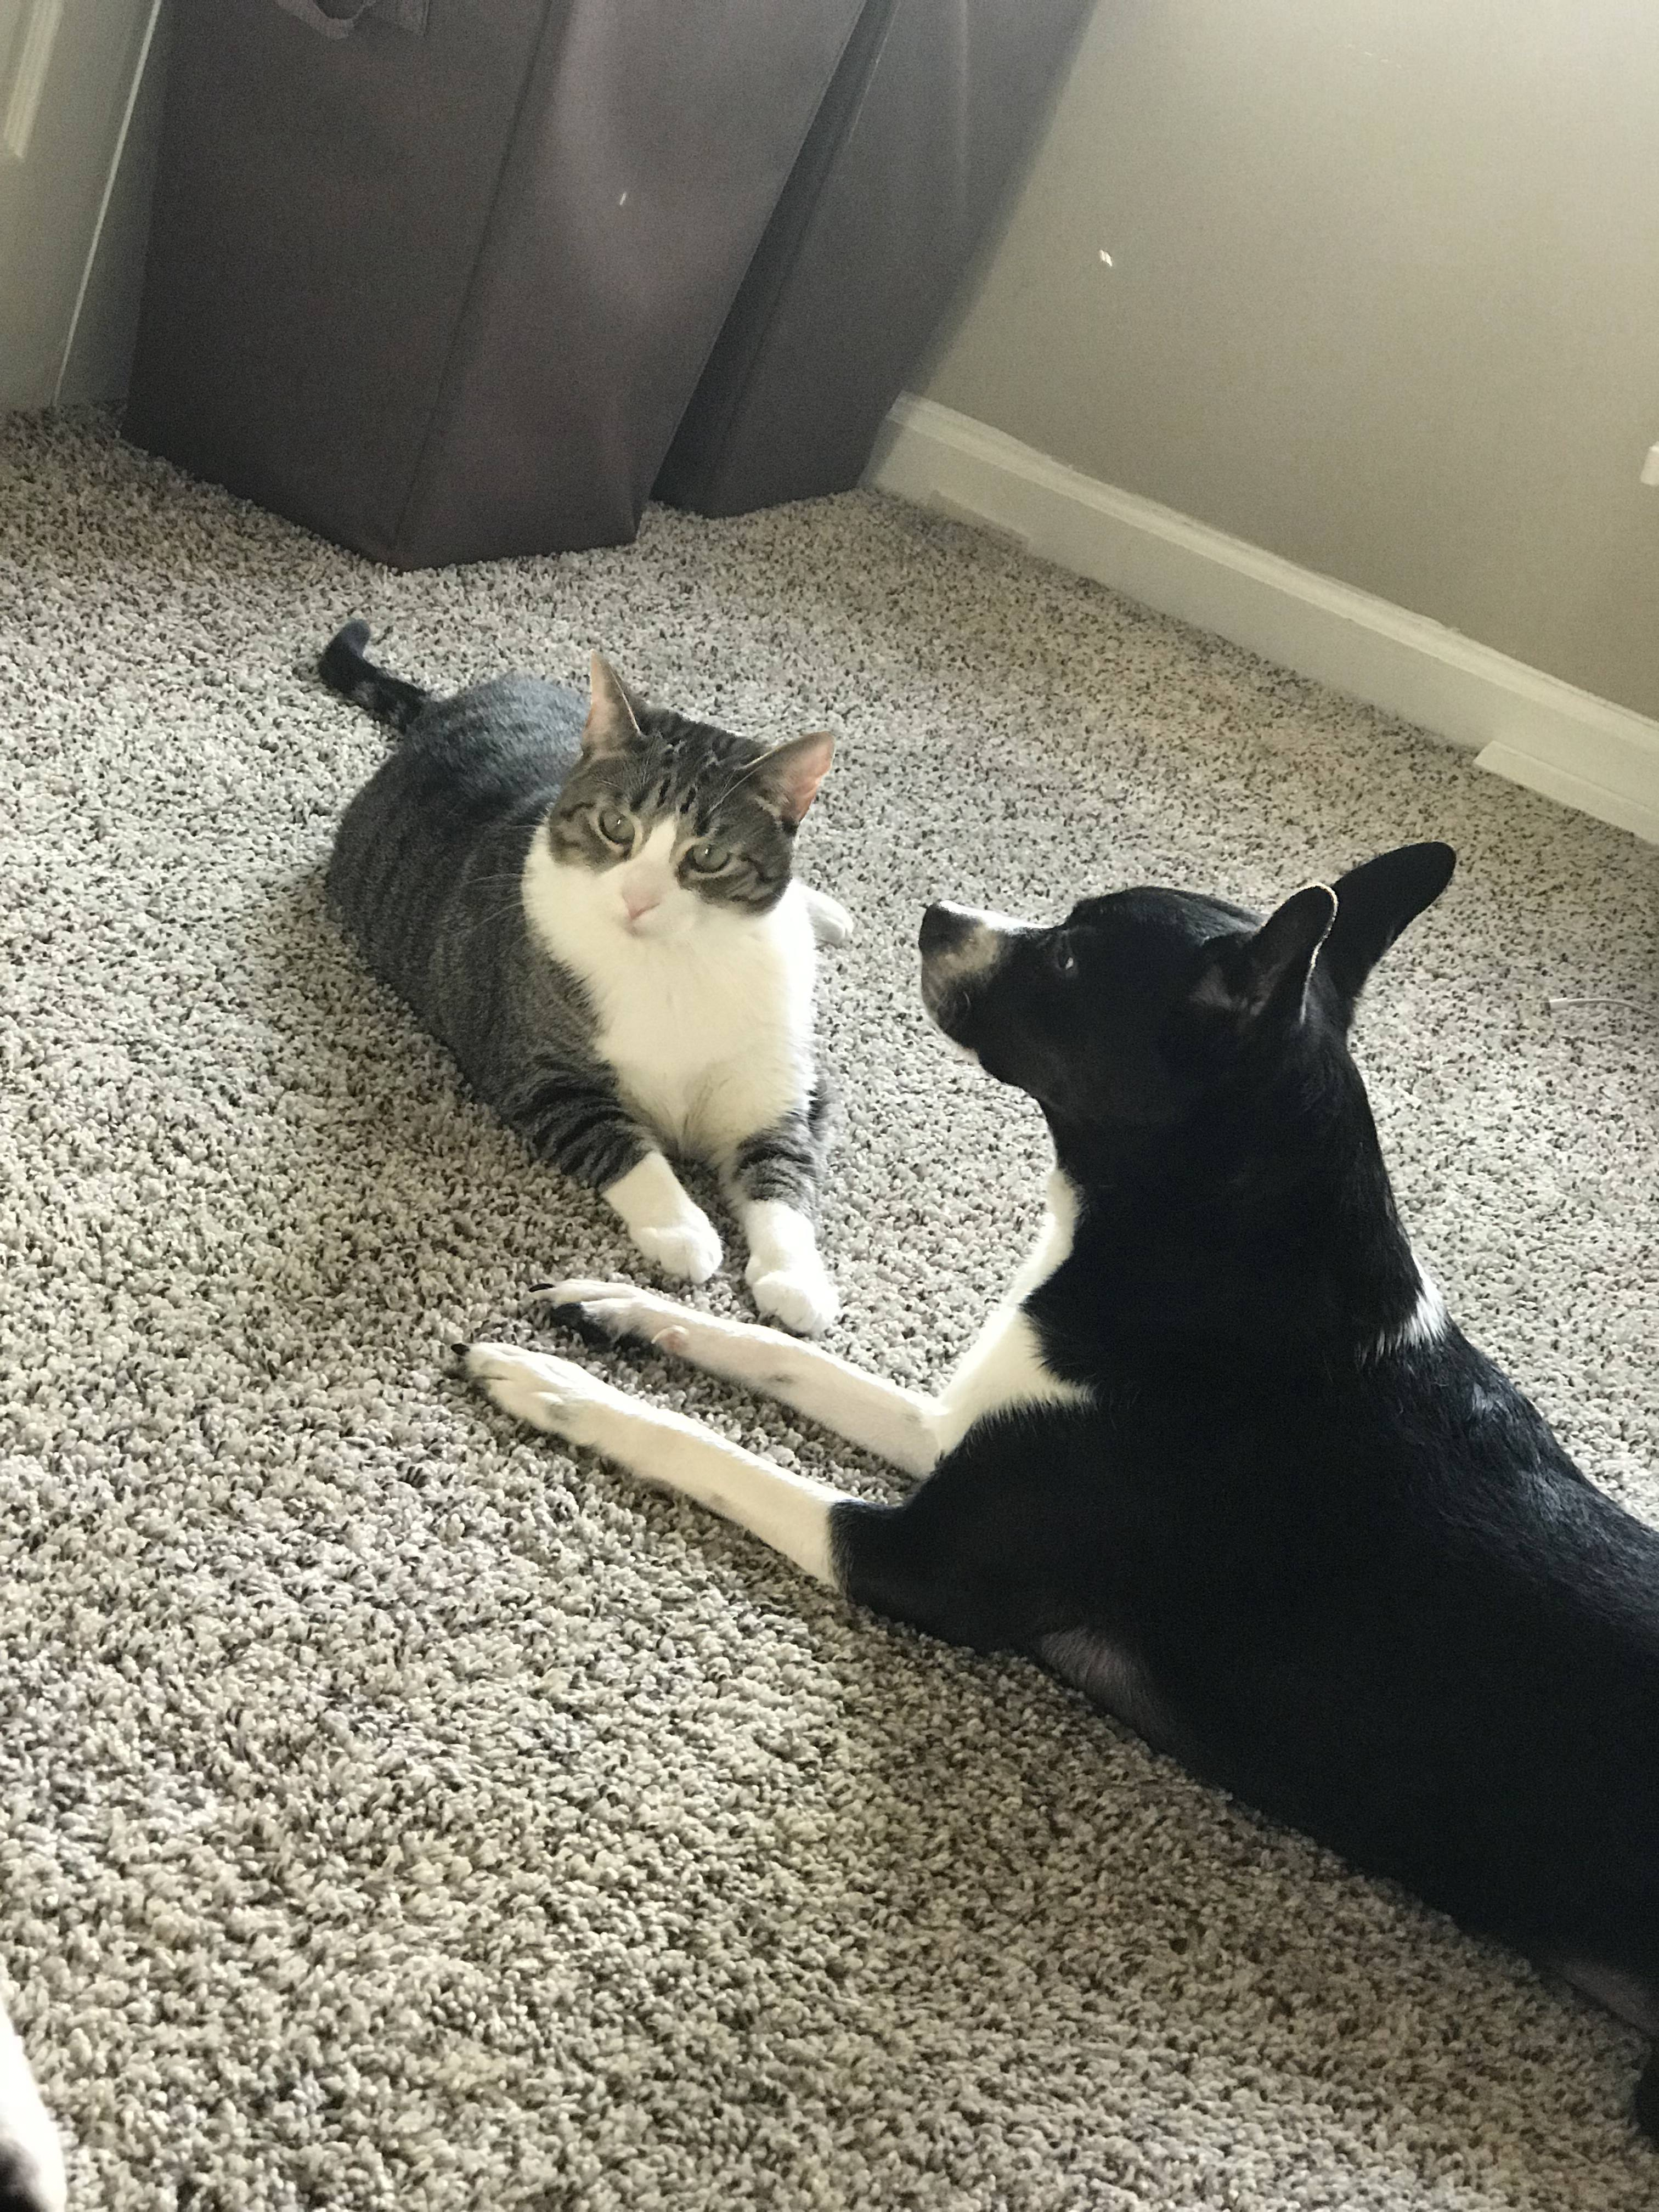Harley: (852, 812, 1650, 2132)
